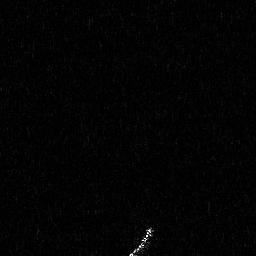ship: (124, 224, 156, 256)
